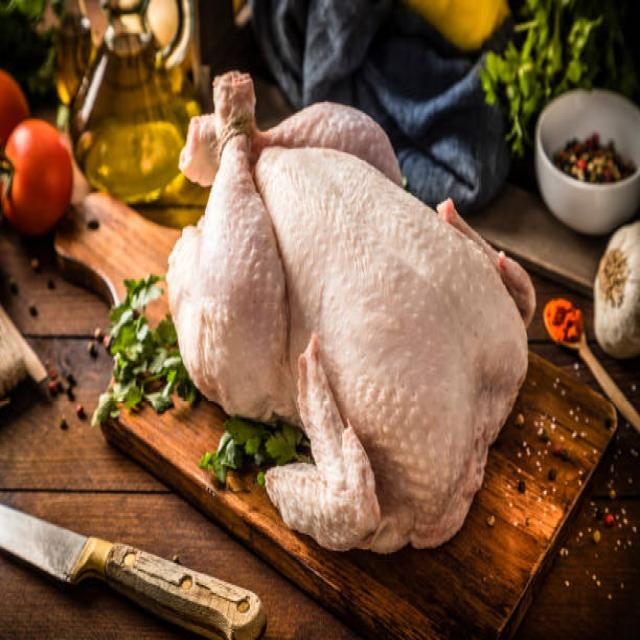Chicken: (155, 64, 545, 567)
